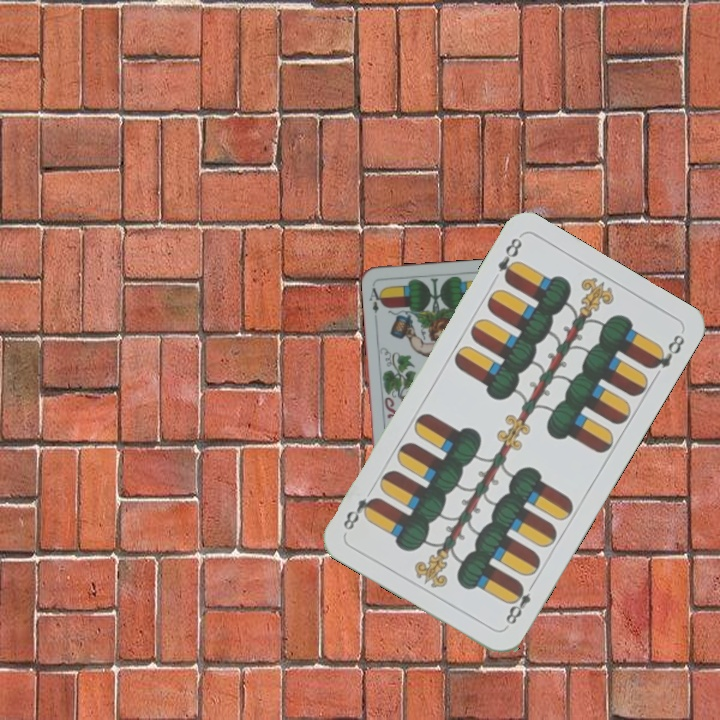E8: (501, 578, 538, 627), (493, 233, 525, 285)
EA: (365, 280, 385, 316)
